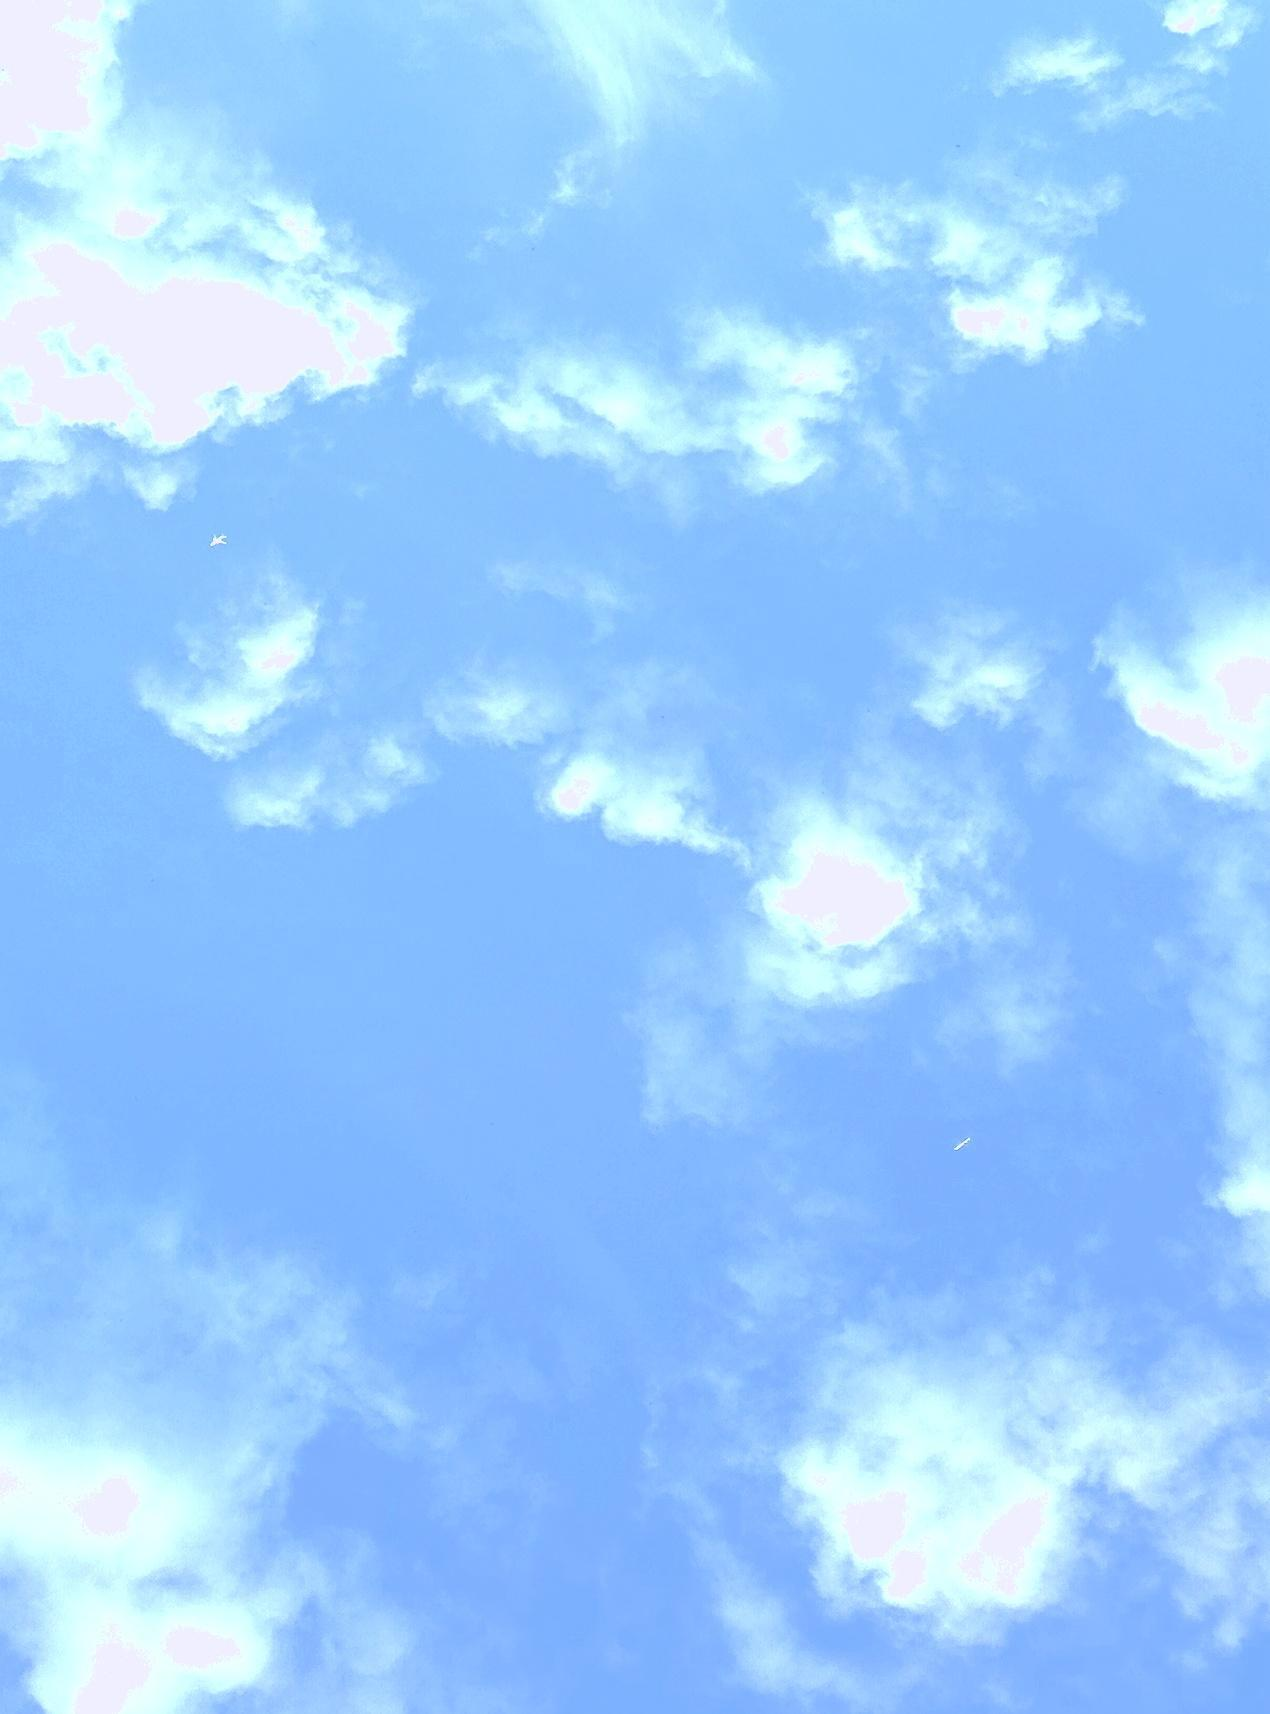Plane: (935, 1119, 993, 1170), (195, 519, 244, 562)
